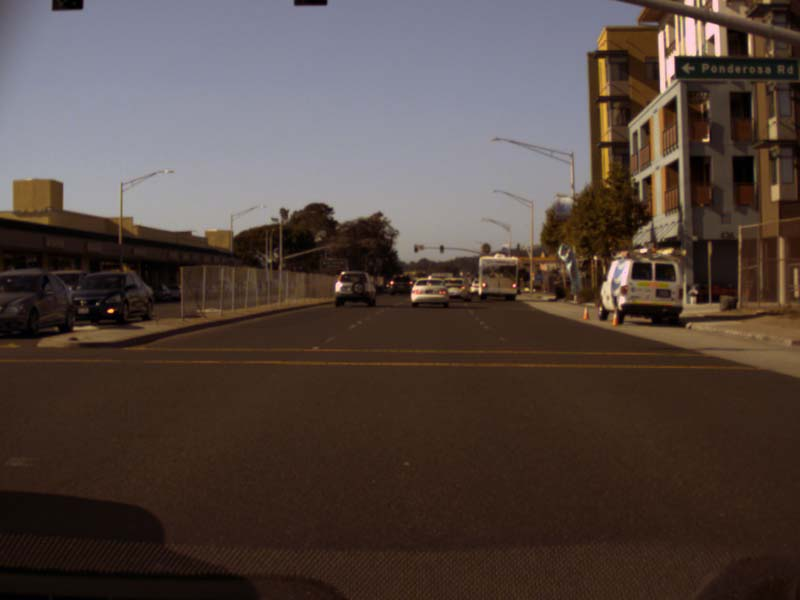Green: (439, 245, 443, 252)
Red: (414, 244, 417, 251)
